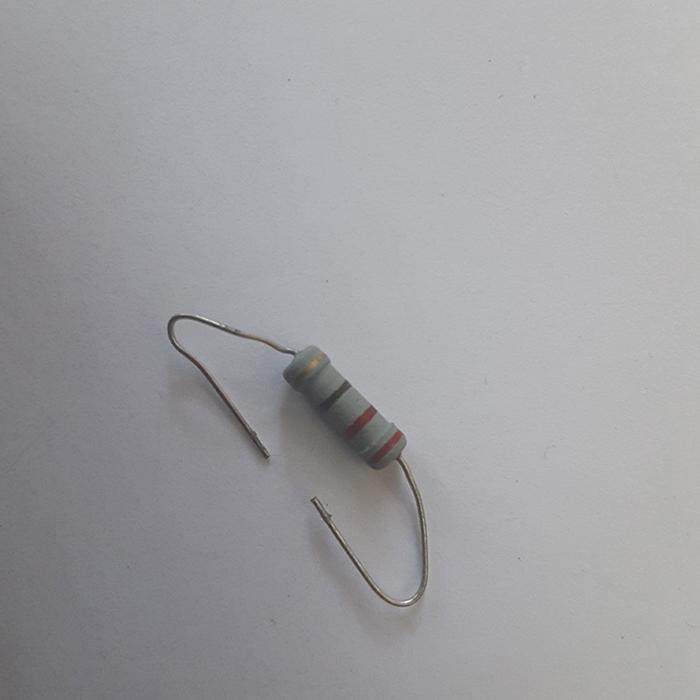resistor: (280, 342, 408, 470)
